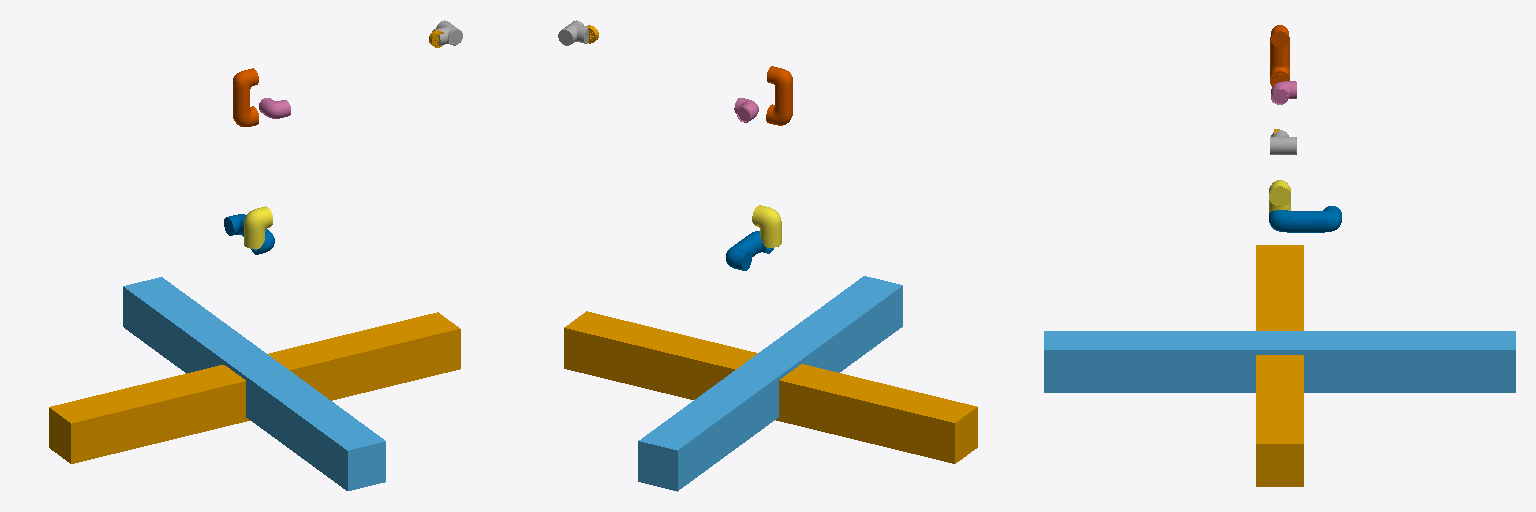
URDF robot description (panda):
<?xml version="1.0" encoding="utf-8"?>
<!-- =================================================================================== -->
<!-- |    This document was autogenerated by xacro from panda_arm_hand.urdf.xacro      | -->
<!-- |    EDITING THIS FILE BY HAND IS NOT RECOMMENDED                                 | -->
<!-- =================================================================================== -->
<robot name="panda" xmlns:xacro="http://www.ros.org/wiki/xacro">
  <!-- add a new base link is just a slab with no collision -->
  <link name="track_x">
    <visual>
      <geometry>
        <box size="1 0.1 0.1"/>
      </geometry>
    </visual>
  </link>
  <link name="track_y">
    <visual>
      <geometry>
        <box size="0.1 1 0.1"/>
      </geometry>
    </visual>
  </link>
  <joint name="move_x" type="prismatic">
    <origin rpy="0 0 0" xyz="0 0 0.01"/>
    <parent link="track_x"/>
    <child link="track_y"/>
    <axis xyz="1 0 0"/>
    <limit effort="20" lower="-1" upper="1" velocity="0.2"/>
  </joint>
  <link name="panda_link0">
    <visual>
      <geometry>
        <mesh filename="franka_description/meshes/visual/link0.dae"/>
      </geometry>
    </visual>
    <collision>
      <geometry>
        <mesh filename="franka_description/meshes/collision/link0.stl"/>
      </geometry>
    </collision>
  </link>
  <joint name="move_y" type="prismatic">
    <origin rpy="0 0 0" xyz="0 0 0.01"/>
    <parent link="track_y"/>
    <child link="panda_link0"/>
    <axis xyz="0 1 0"/>
    <limit effort="20" lower="-1" upper="1" velocity="0.2"/>
  </joint>
  <link name="panda_link1">
    <visual>
      <geometry>
        <mesh filename="franka_description/meshes/visual/link1.dae"/>
      </geometry>
    </visual>
    <collision>
      <geometry>
        <mesh filename="franka_description/meshes/collision/link1.stl"/>
      </geometry>
    </collision>
  </link>
  <joint name="panda_joint1" type="revolute">
    <safety_controller k_position="100.0" k_velocity="40.0" soft_lower_limit="-2.8973" soft_upper_limit="2.8973"/>
    <origin rpy="0 0 0" xyz="0 0 0.333"/>
    <parent link="panda_link0"/>
    <child link="panda_link1"/>
    <axis xyz="0 0 1"/>
    <limit effort="87" lower="-2.8973" upper="2.8973" velocity="2.1750"/>
  </joint>
  <link name="panda_link2">
    <visual>
      <geometry>
        <mesh filename="franka_description/meshes/visual/link2.dae"/>
      </geometry>
    </visual>
    <collision>
      <geometry>
        <mesh filename="franka_description/meshes/collision/link2.stl"/>
      </geometry>
    </collision>
  </link>
  <joint name="panda_joint2" type="revolute">
    <safety_controller k_position="100.0" k_velocity="40.0" soft_lower_limit="-1.7628" soft_upper_limit="1.7628"/>
    <origin rpy="-1.57079632679 0 0" xyz="0 0 0"/>
    <parent link="panda_link1"/>
    <child link="panda_link2"/>
    <axis xyz="0 0 1"/>
    <limit effort="87" lower="-1.7628" upper="1.7628" velocity="2.1750"/>
  </joint>
  <link name="panda_link3">
    <visual>
      <geometry>
        <mesh filename="franka_description/meshes/visual/link3.dae"/>
      </geometry>
    </visual>
    <collision>
      <geometry>
        <mesh filename="franka_description/meshes/collision/link3.stl"/>
      </geometry>
    </collision>
  </link>
  <joint name="panda_joint3" type="revolute">
    <safety_controller k_position="100.0" k_velocity="40.0" soft_lower_limit="-2.8973" soft_upper_limit="2.8973"/>
    <origin rpy="1.57079632679 0 0" xyz="0 -0.316 0"/>
    <parent link="panda_link2"/>
    <child link="panda_link3"/>
    <axis xyz="0 0 1"/>
    <limit effort="87" lower="-2.8973" upper="2.8973" velocity="2.1750"/>
  </joint>
  <link name="panda_link4">
    <visual>
      <geometry>
        <mesh filename="franka_description/meshes/visual/link4.dae"/>
      </geometry>
    </visual>
    <collision>
      <geometry>
        <mesh filename="franka_description/meshes/collision/link4.stl"/>
      </geometry>
    </collision>
  </link>
  <joint name="panda_joint4" type="revolute">
    <safety_controller k_position="100.0" k_velocity="40.0" soft_lower_limit="-3.0718" soft_upper_limit="-0.0698"/>
    <origin rpy="1.57079632679 0 0" xyz="0.0825 0 0"/>
    <parent link="panda_link3"/>
    <child link="panda_link4"/>
    <axis xyz="0 0 1"/>
    <limit effort="87" lower="-3.0718" upper="-0.0698" velocity="2.1750"/>
  </joint>
  <link name="panda_link5">
    <visual>
      <geometry>
        <mesh filename="franka_description/meshes/visual/link5.dae"/>
      </geometry>
    </visual>
    <collision>
      <geometry>
        <mesh filename="franka_description/meshes/collision/link5.stl"/>
      </geometry>
    </collision>
  </link>
  <joint name="panda_joint5" type="revolute">
    <safety_controller k_position="100.0" k_velocity="40.0" soft_lower_limit="-2.8973" soft_upper_limit="2.8973"/>
    <origin rpy="-1.57079632679 0 0" xyz="-0.0825 0.384 0"/>
    <parent link="panda_link4"/>
    <child link="panda_link5"/>
    <axis xyz="0 0 1"/>
    <limit effort="12" lower="-2.8973" upper="2.8973" velocity="2.6100"/>
  </joint>
  <link name="panda_link6">
    <visual>
      <geometry>
        <mesh filename="franka_description/meshes/visual/link6.dae"/>
      </geometry>
    </visual>
    <collision>
      <geometry>
        <mesh filename="franka_description/meshes/collision/link6.stl"/>
      </geometry>
    </collision>
  </link>
  <joint name="panda_joint6" type="revolute">
    <safety_controller k_position="100.0" k_velocity="40.0" soft_lower_limit="-0.0175" soft_upper_limit="3.7525"/>
    <origin rpy="1.57079632679 0 0" xyz="0 0 0"/>
    <parent link="panda_link5"/>
    <child link="panda_link6"/>
    <axis xyz="0 0 1"/>
    <limit effort="12" lower="-0.0175" upper="3.7525" velocity="2.6100"/>
  </joint>
  <link name="panda_link7">
    <visual>
      <geometry>
        <mesh filename="franka_description/meshes/visual/link7.dae"/>
      </geometry>
    </visual>
    <collision>
      <geometry>
        <mesh filename="franka_description/meshes/collision/link7.stl"/>
      </geometry>
    </collision>
  </link>
  <joint name="panda_joint7" type="revolute">
    <safety_controller k_position="100.0" k_velocity="40.0" soft_lower_limit="-2.8973" soft_upper_limit="2.8973"/>
    <origin rpy="1.57079632679 0 0" xyz="0.088 0 0"/>
    <parent link="panda_link6"/>
    <child link="panda_link7"/>
    <axis xyz="0 0 1"/>
    <limit effort="12" lower="-2.8973" upper="2.8973" velocity="2.6100"/>
  </joint>
  <link name="panda_link8"/>
  <joint name="panda_joint8" type="fixed">
    <origin rpy="0 0 0" xyz="0 0 0.107"/>
    <parent link="panda_link7"/>
    <child link="panda_link8"/>
    <axis xyz="0 0 0"/>
  </joint>
  <joint name="panda_hand_joint" type="fixed">
    <parent link="panda_link8"/>
    <child link="panda_hand"/>
    <origin rpy="0 0 -0.785398163397" xyz="0 0 0"/>
  </joint>
  <link name="panda_hand">
    <visual>
      <geometry>
        <mesh filename="franka_description/meshes/visual/hand.dae"/>
      </geometry>
    </visual>
    <collision>
      <geometry>
        <mesh filename="franka_description/meshes/collision/hand.stl"/>
      </geometry>
    </collision>
  </link>
  <link name="panda_leftfinger">
    <visual>
      <geometry>
        <mesh filename="franka_description/meshes/visual/finger.dae"/>
      </geometry>
    </visual>
    <collision>
      <geometry>
        <mesh filename="franka_description/meshes/collision/finger.stl"/>
      </geometry>
    </collision>
  </link>
  <link name="panda_rightfinger">
    <visual>
      <origin rpy="0 0 3.14159265359" xyz="0 0 0"/>
      <geometry>
        <mesh filename="franka_description/meshes/visual/finger.dae"/>
      </geometry>
    </visual>
    <collision>
      <origin rpy="0 0 3.14159265359" xyz="0 0 0"/>
      <geometry>
        <mesh filename="franka_description/meshes/collision/finger.stl"/>
      </geometry>
    </collision>
  </link>
  <joint name="panda_finger_joint1" type="prismatic">
    <parent link="panda_hand"/>
    <child link="panda_leftfinger"/>
    <origin rpy="0 0 0" xyz="0 0 0.0584"/>
    <axis xyz="0 1 0"/>
    <limit effort="20" lower="0.0" upper="0.04" velocity="0.2"/>
  </joint>
  <joint name="panda_finger_joint2" type="prismatic">
    <parent link="panda_hand"/>
    <child link="panda_rightfinger"/>
    <origin rpy="0 0 0" xyz="0 0 0.0584"/>
    <axis xyz="0 -1 0"/>
    <limit effort="20" lower="0.0" upper="0.04" velocity="0.2"/>
    <mimic joint="panda_finger_joint1"/>
  </joint>
</robot>

--- What the picture shows (computed from the rendered views, not written in the file) ---
3 views of the same robot in one strip: view 1: azimuth 30°, elevation 25°; view 2: azimuth 150°, elevation 25°; view 3: azimuth 270°, elevation 25° (orthographic).
Robot: panda — 14 links, 13 joints (7 revolute, 4 prismatic, 2 fixed); root link track_x; default pose: all joints at 0 but 1 set to mid-range because 0 is outside their limits (panda_joint4 = -1.57).
Visible links, largest first — view 1: track_x, track_y, panda_link3, panda_link1, panda_link2, panda_link4; view 2: track_x, track_y, panda_link3, panda_link2, panda_link1, panda_link5; view 3: track_y, track_x, panda_link2, panda_link3, panda_link1, panda_link5.
Link boxes in pixels (bbox=[...]): track_x: bbox=[49, 312, 460, 463]; track_y: bbox=[123, 277, 385, 490]; panda_link3: bbox=[233, 68, 258, 126]; panda_link1: bbox=[244, 206, 272, 248]; panda_link2: bbox=[224, 214, 274, 254]; panda_link4: bbox=[259, 98, 290, 118]; track_x: bbox=[564, 311, 977, 463]; track_y: bbox=[638, 276, 902, 491]; panda_link3: bbox=[766, 66, 792, 125]; panda_link2: bbox=[726, 231, 773, 270]; panda_link1: bbox=[752, 205, 781, 247]; panda_link5: bbox=[558, 20, 588, 45]; track_y: bbox=[1044, 331, 1515, 392]; track_x: bbox=[1256, 245, 1303, 486]; panda_link2: bbox=[1269, 206, 1341, 232]; panda_link3: bbox=[1270, 25, 1289, 86]; panda_link1: bbox=[1269, 180, 1290, 212]; panda_link5: bbox=[1270, 130, 1296, 154].
Bounding box of the posed robot: 1.02 × 1 × 0.8342 m (x, y, z).
6 mesh visuals loaded from 10 distinct referenced files (6 Collada DAE); not drawn: 5 (reference not matched to a file when rendering).